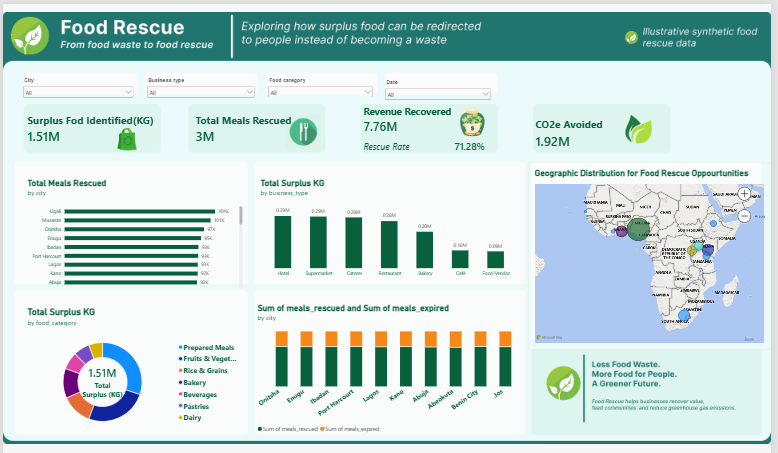

The dashboard page shown, as its layout file describes it:
{"tool":"powerbi","page":{"name":"Food Rescue","canvas":[1920,1080],"ordinal":3},"visuals":[{"type":"cardVisual","fields":{"Data":["_Measures.Total Surplus KG"]},"box":[44.2,127.9,348.8,269.8],"z":0},{"type":"cardVisual","fields":{"Data":["_Measures.Revenue Recovered USD"]},"box":[886,202.3,339.5,144.2],"z":1000},{"type":"clusteredBarChart","fields":{"Y":["_Measures.Total Meals Rescued"],"Category":["Food Rescue.city"]},"box":[44.2,369.8,569.8,307],"z":2000},{"type":"clusteredColumnChart","fields":{"Category":["Food Rescue.business_type"],"Y":["_Measures.Total Surplus KG"]},"box":[627.5,370,679.1,281.4],"z":3000},{"type":"hundredPercentStackedColumnChart","fields":{"Category":["Food Rescue.city"],"Y":["Sum(Food Rescue.meals_rescued)","Sum(Food Rescue.meals_expired)"]},"box":[620.9,683.7,693,360.5],"z":4000},{"type":"donutChart","fields":{"Y":["_Measures.Total Surplus KG"],"Category":["Food Rescue.food_category"]},"box":[44.2,693,569.8,341.9],"z":5000},{"type":"cardVisual","fields":{"Data":["_Measures.CO2e Avoided"]},"box":[1314,195.3,330.2,158.1],"z":6000},{"type":"cardVisual","fields":{"Data":["_Measures.Total Meals Rescued"]},"box":[465.1,179.1,339.5,165.1],"z":7000},{"type":"slicer","fields":{"Values":["Food Rescue.city"]},"box":[44.2,132.6,286,55.8],"z":8000},{"type":"slicer","fields":{"Values":["Food Rescue.business_type"]},"box":[355.8,132.6,279.1,58.1],"z":9000},{"type":"slicer","fields":{"Values":["Food Rescue.date"]},"box":[951.2,137.2,274.4,58.1],"z":10000},{"type":"slicer","fields":{"Values":["Food Rescue.food_category"]},"box":[658.1,132.6,272.1,48.8],"z":11000},{"type":"map","title":"Geographic Distribution for Food Rescue Oppourtunities","fields":{"Category":["Food Rescue.country"],"Y":["Avg(Food Rescue.latitude)"],"X":["Avg(Food Rescue.longitude)"],"Size":["Sum(Food Rescue.surplus_kg)"]},"box":[1312.5,345,607.5,470],"z":12000}]}

Visuals, with their boxes on the page's 1920x1080 design canvas (x1, y1, x2, y2). These are canvas units, not pixel positions in the 778x453 screenshot, which may show the page scaled, cropped or inside an application window:
cardVisual - _Measures.Total Surplus KG: 44,128,393,398
cardVisual - _Measures.Revenue Recovered USD: 886,202,1226,346
clusteredBarChart - _Measures.Total Meals Rescued x Food Rescue.city: 44,370,614,677
clusteredColumnChart - Food Rescue.business_type x _Measures.Total Surplus KG: 628,370,1307,651
hundredPercentStackedColumnChart - Food Rescue.city x Sum(Food Rescue.meals_rescued): 621,684,1314,1044
donutChart - _Measures.Total Surplus KG x Food Rescue.food_category: 44,693,614,1035
cardVisual - _Measures.CO2e Avoided: 1314,195,1644,353
cardVisual - _Measures.Total Meals Rescued: 465,179,805,344
slicer - Food Rescue.city: 44,133,330,188
slicer - Food Rescue.business_type: 356,133,635,191
slicer - Food Rescue.date: 951,137,1226,195
slicer - Food Rescue.food_category: 658,133,930,181
"Geographic Distribution for Food Rescue Oppourtunities" map: 1312,345,1920,815
